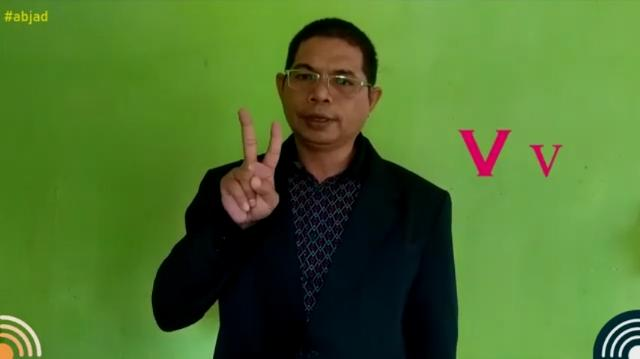V: (220, 102, 288, 230)
